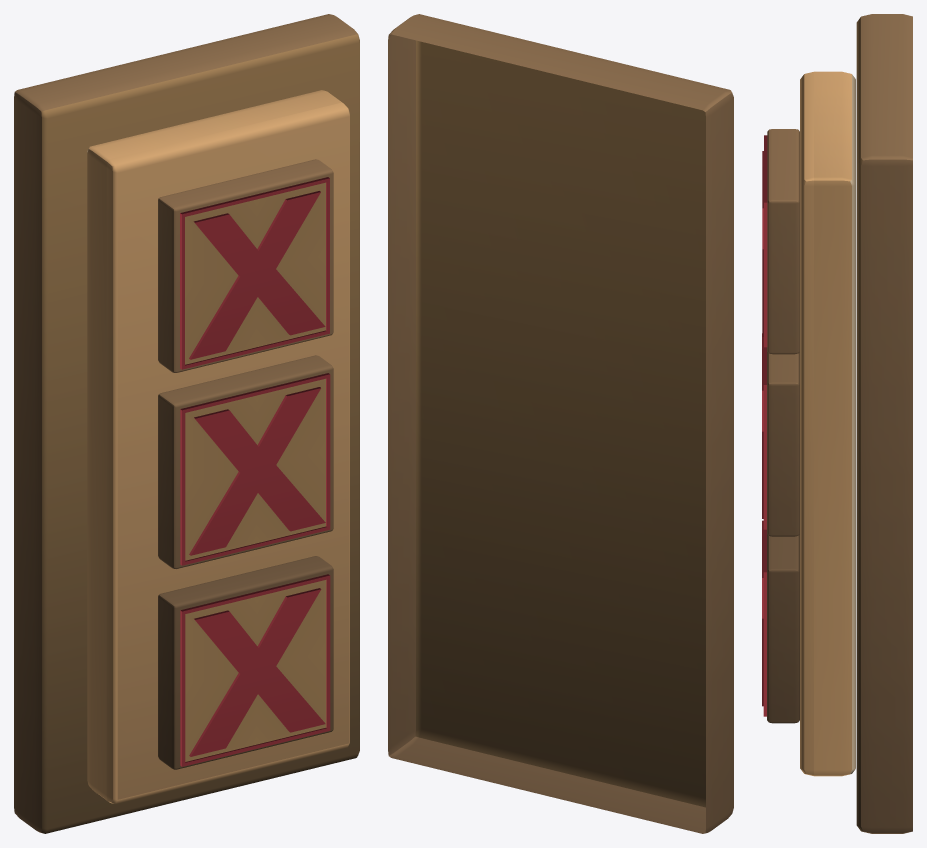
Rendered from Puzzle_errori.fbx.
3 views of the same model, side by side, from view 1: azimuth 30°, elevation 25°; view 2: azimuth 150°, elevation 25°; view 3: azimuth 270°, elevation 25° (orthographic). The views are drawn at different scales.
Parts seen in each view (by area): view 1: typeMesh4; view 2: typeMesh4; view 3: typeMesh4.
Part boxes in pixels (x1,y1,x2,y2): typeMesh4: [14, 14, 359, 833]; typeMesh4: [388, 14, 733, 833]; typeMesh4: [762, 14, 912, 833].
Bounding box in the file's own units: 10.3 × 22.36 × 4.51.
